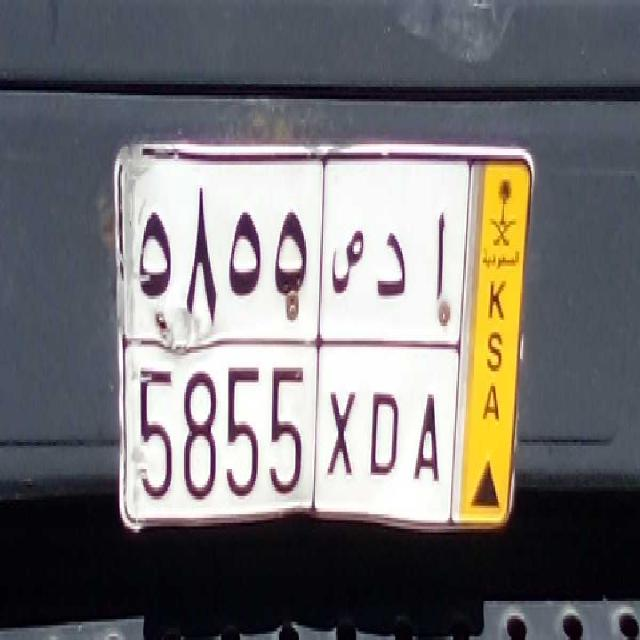license_plate: (127, 330, 445, 527)
